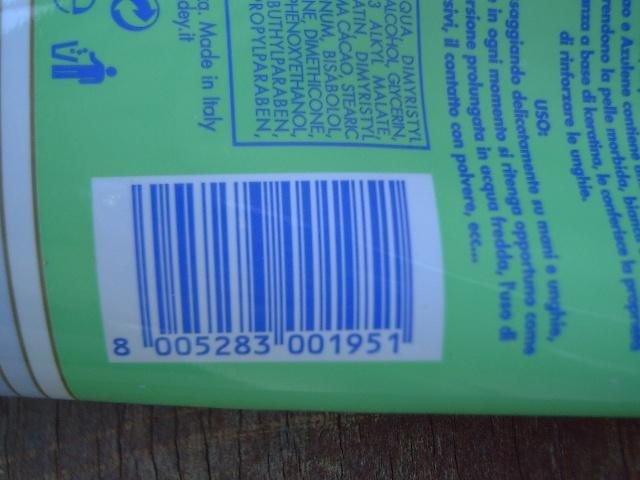Barcode: (92, 172, 445, 364)
